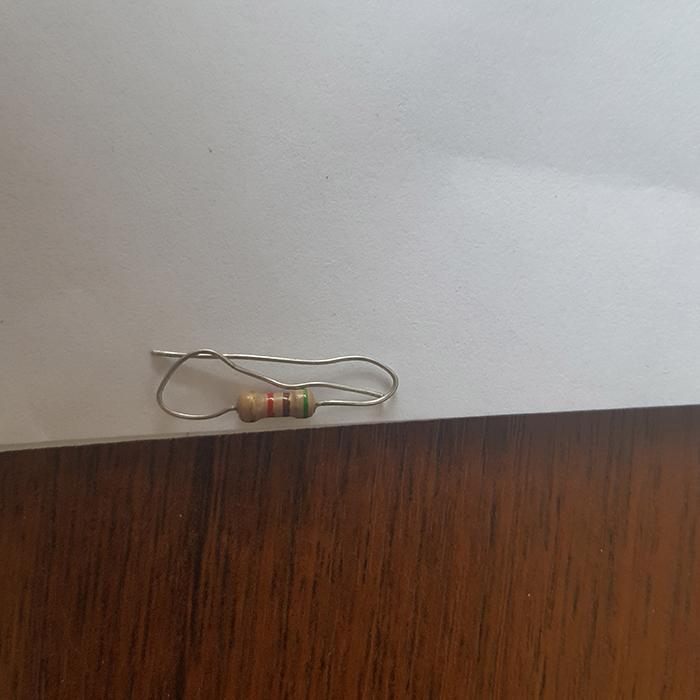resistor: (236, 387, 316, 422)
